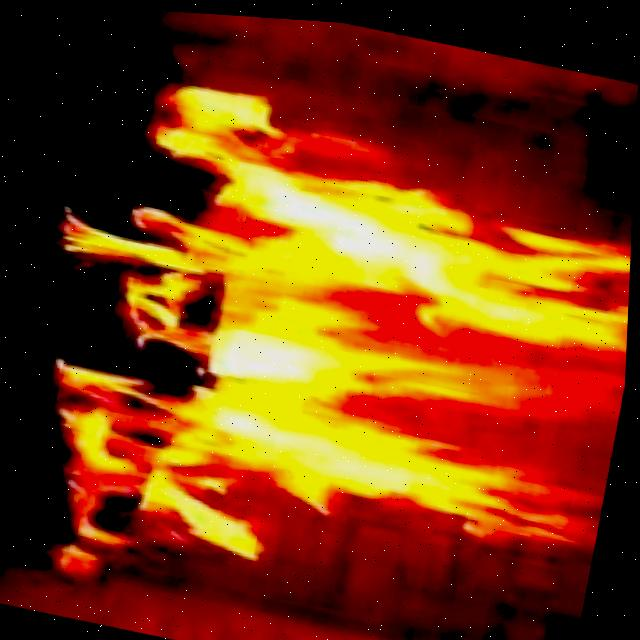Fire: (84, 85, 637, 589)
